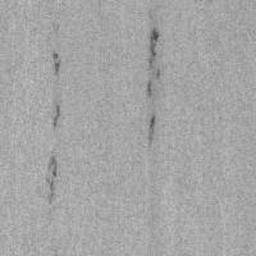Inclusion: (145, 24, 164, 151), (44, 154, 59, 207), (51, 95, 63, 133), (51, 47, 63, 83)
